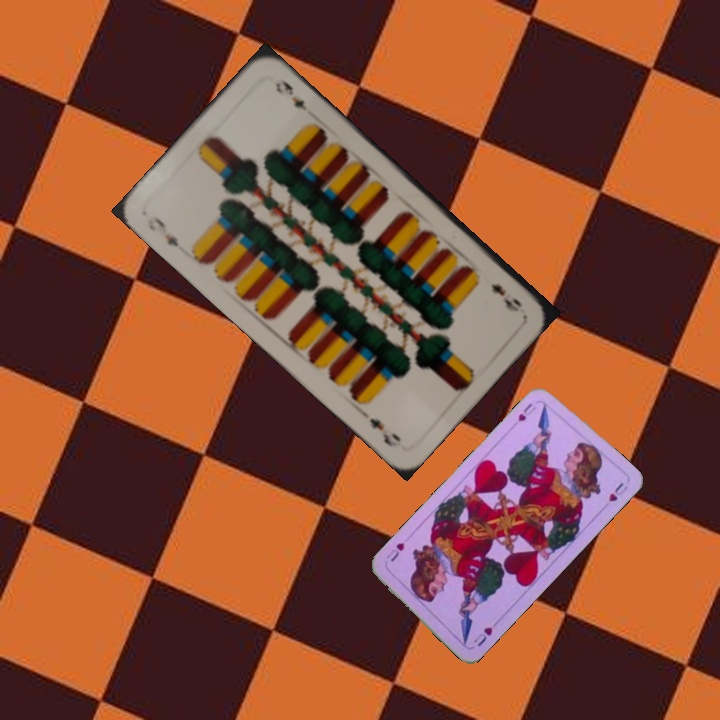E9: (142, 212, 181, 249), (487, 279, 525, 315)
HU: (469, 617, 499, 650), (514, 399, 539, 424)
